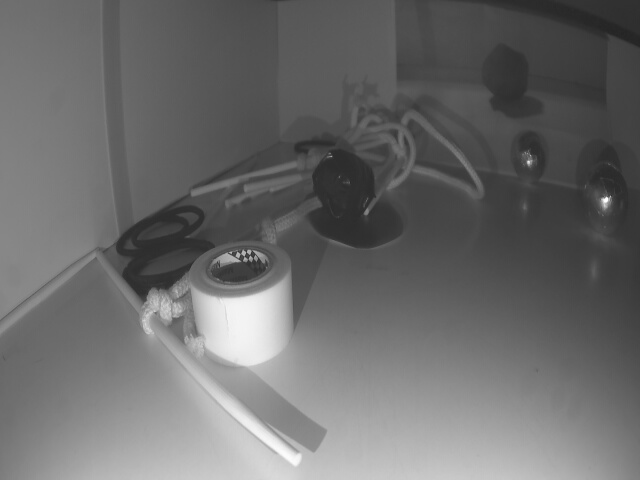Dead: (311, 152, 376, 223)
Live: (579, 159, 628, 231), (516, 138, 544, 184)
